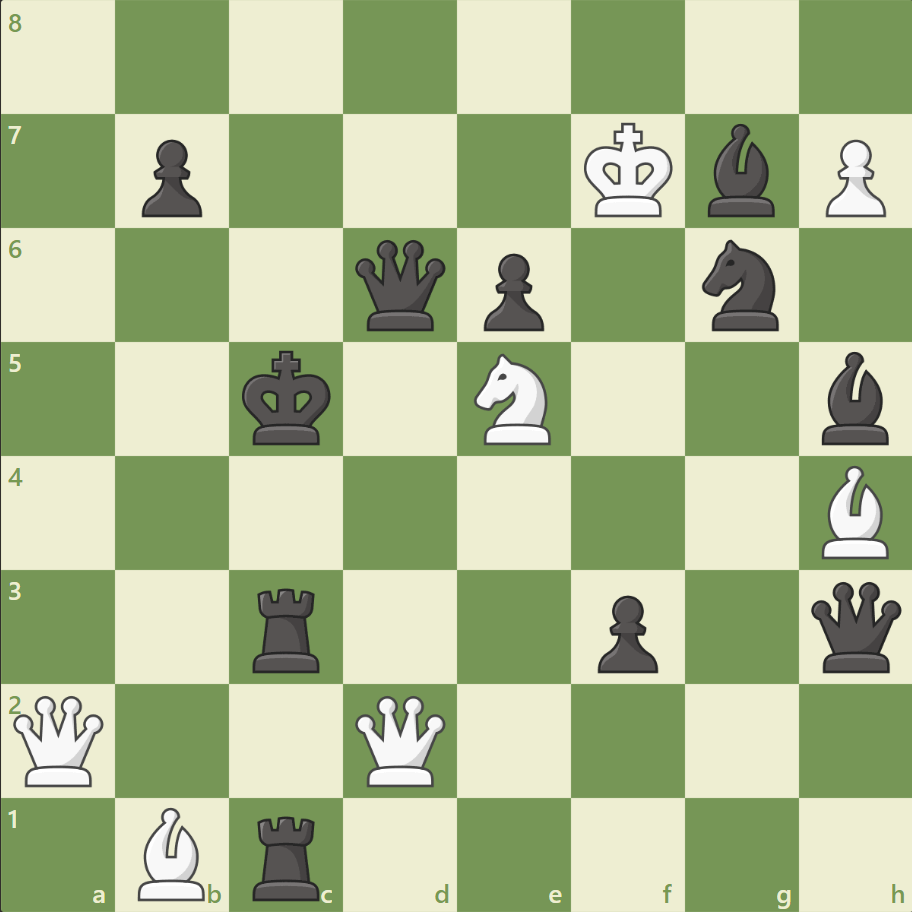B: (812, 460, 896, 563), (131, 801, 215, 904)
K: (579, 117, 679, 225)
N: (465, 348, 562, 450)
P: (815, 132, 889, 223)
Q: (10, 690, 109, 789), (351, 690, 450, 789)
b: (698, 120, 782, 222), (812, 347, 896, 449)
k: (238, 344, 338, 452)
n: (692, 234, 789, 337)
p: (133, 132, 208, 223), (474, 246, 549, 337), (588, 586, 662, 677)
q: (805, 576, 904, 676), (351, 236, 450, 335)
r: (246, 806, 329, 904), (246, 579, 329, 676)
